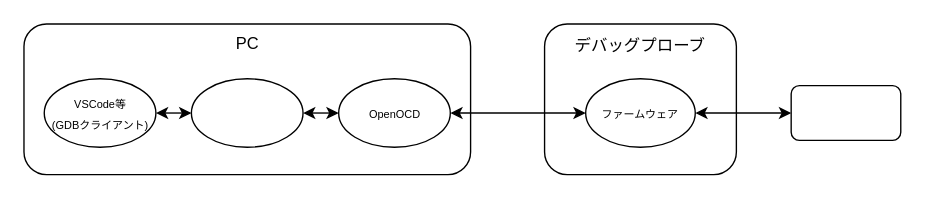
Some shapes in this 925 by 199 pixel diagram are drawn without their labels. Here are the shapes that lost their labels. From the top down, the centre of each, then its label:
the point at 246,112: GDBサーバー
the point at 845,112: MCU
